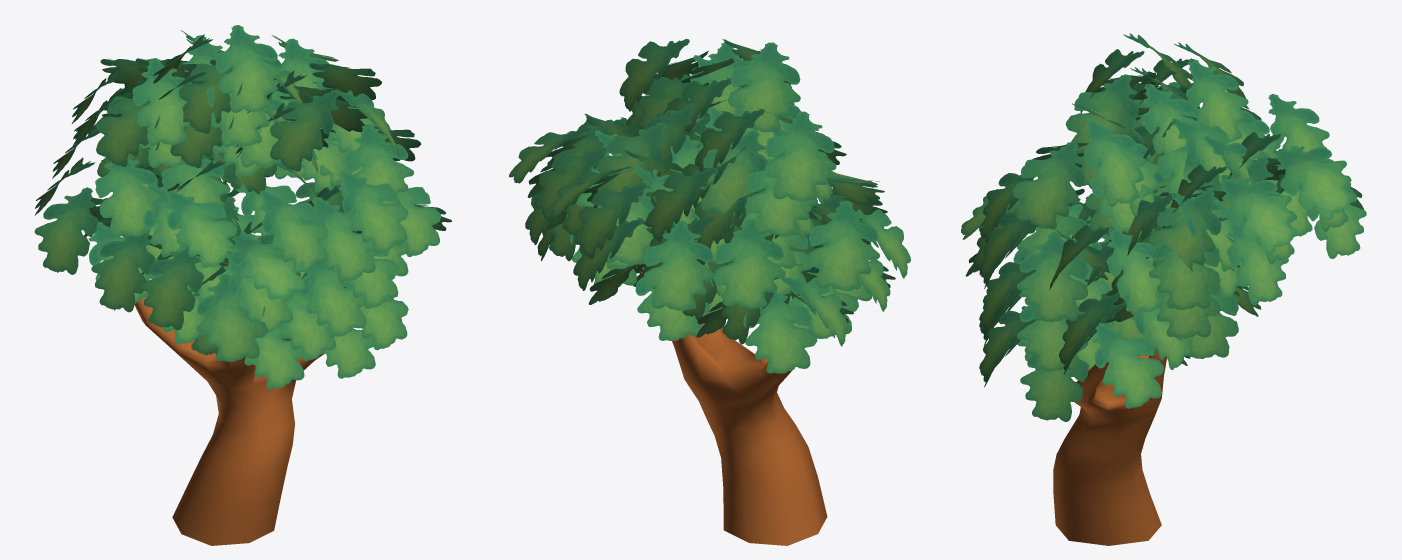
The model's file is tree1.FBX.
3 renders of one model, left to right at view 1: azimuth 30°, elevation 25°; view 2: azimuth 150°, elevation 25°; view 3: azimuth 270°, elevation 25°, orthographic.
Parts seen in each view (by area): view 1: tree, leaf110, leaf167, leaf, leaf054, leaf060, leaf013, leaf061, leaf004, leaf176, leaf116, leaf031 (+34 smaller); view 2: tree, leaf117, leaf180, leaf171, leaf124, leaf111, leaf017, leaf168, leaf130, leaf148, leaf138, leaf136 (+32 smaller); view 3: tree, leaf175, leaf058, leaf022, leaf135, leaf129, leaf115, leaf133, leaf100, leaf118, leaf166, leaf122 (+38 smaller).
Boxes of the visible parts, x1=… form: tree: x1=134, y1=297, x2=324, y2=545; leaf110: x1=215, y1=25, x2=283, y2=112; leaf167: x1=95, y1=158, x2=163, y2=237; leaf: x1=196, y1=274, x2=267, y2=361; leaf054: x1=339, y1=170, x2=408, y2=253; leaf060: x1=259, y1=190, x2=328, y2=273; leaf013: x1=34, y1=187, x2=98, y2=274; leaf061: x1=164, y1=190, x2=237, y2=268; leaf004: x1=140, y1=245, x2=203, y2=330; leaf176: x1=270, y1=90, x2=339, y2=171; leaf116: x1=132, y1=58, x2=191, y2=145; leaf031: x1=91, y1=233, x2=155, y2=312; tree: x1=635, y1=263, x2=827, y2=545; leaf117: x1=764, y1=111, x2=836, y2=201; leaf180: x1=642, y1=221, x2=714, y2=310; leaf171: x1=807, y1=200, x2=879, y2=290; leaf124: x1=713, y1=218, x2=785, y2=308; leaf111: x1=728, y1=42, x2=800, y2=131; leaf017: x1=743, y1=291, x2=817, y2=373; leaf168: x1=700, y1=130, x2=767, y2=218; leaf130: x1=596, y1=122, x2=666, y2=204; leaf148: x1=745, y1=152, x2=817, y2=236; leaf138: x1=574, y1=182, x2=646, y2=259; leaf136: x1=645, y1=167, x2=717, y2=241; tree: x1=1053, y1=337, x2=1166, y2=545; leaf175: x1=1012, y1=141, x2=1084, y2=229; leaf058: x1=1017, y1=232, x2=1088, y2=322; leaf022: x1=1092, y1=322, x2=1164, y2=408; leaf135: x1=1275, y1=146, x2=1354, y2=220; leaf129: x1=1221, y1=178, x2=1297, y2=254; leaf115: x1=1083, y1=118, x2=1146, y2=206; leaf133: x1=1148, y1=189, x2=1221, y2=271; leaf100: x1=1149, y1=243, x2=1220, y2=309; leaf118: x1=1186, y1=59, x2=1248, y2=143; leaf166: x1=1106, y1=227, x2=1162, y2=315; leaf122: x1=1065, y1=74, x2=1138, y2=153.
Bounding box in the file's own units: 301 × 342 × 273.
